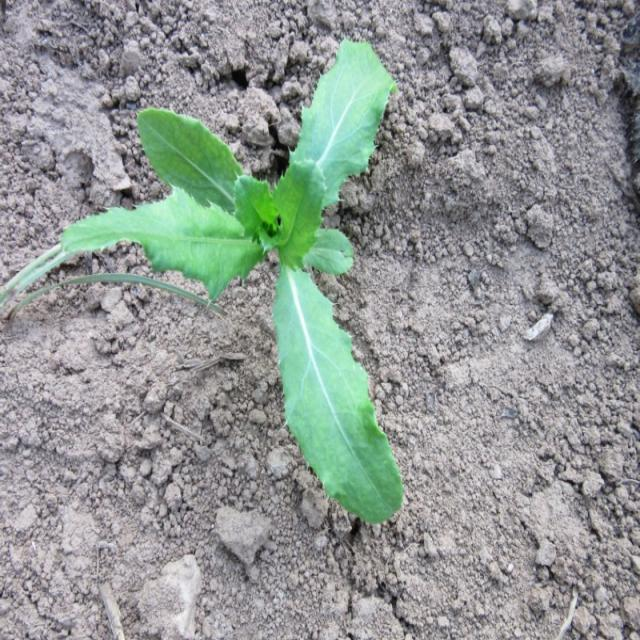cs: (54, 36, 407, 527)
